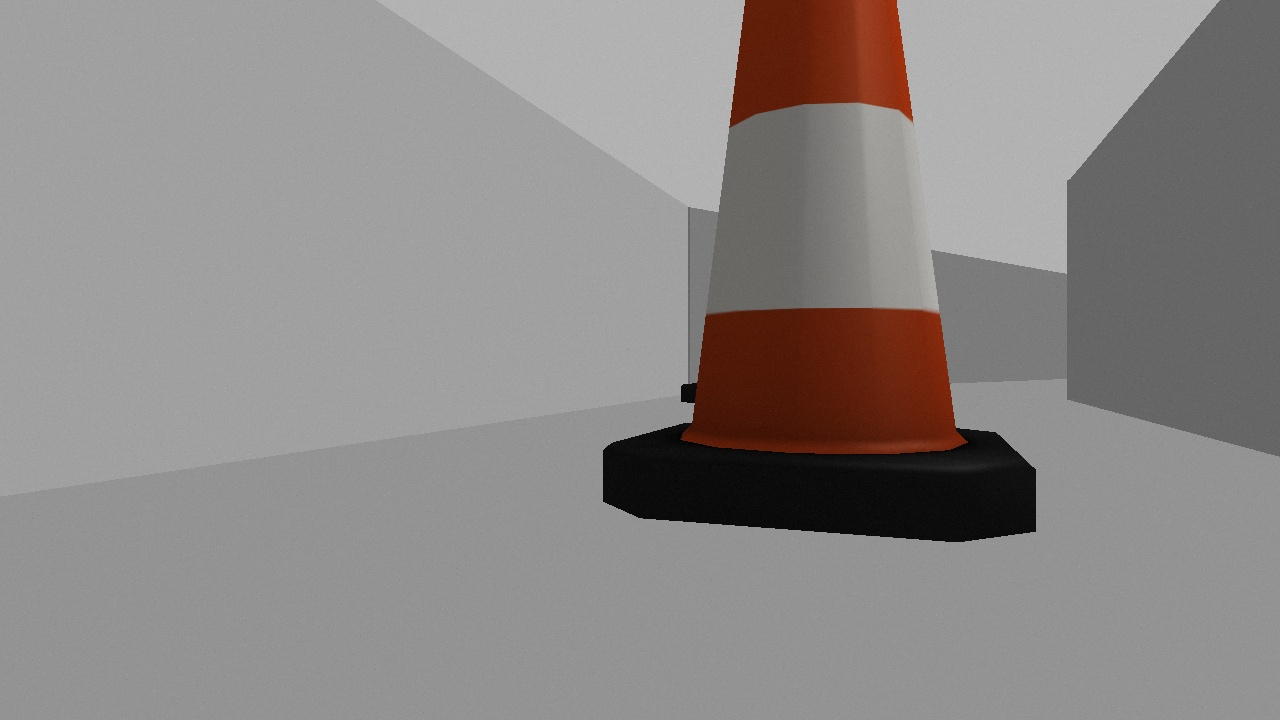barricade: (598, 2, 1040, 545)
